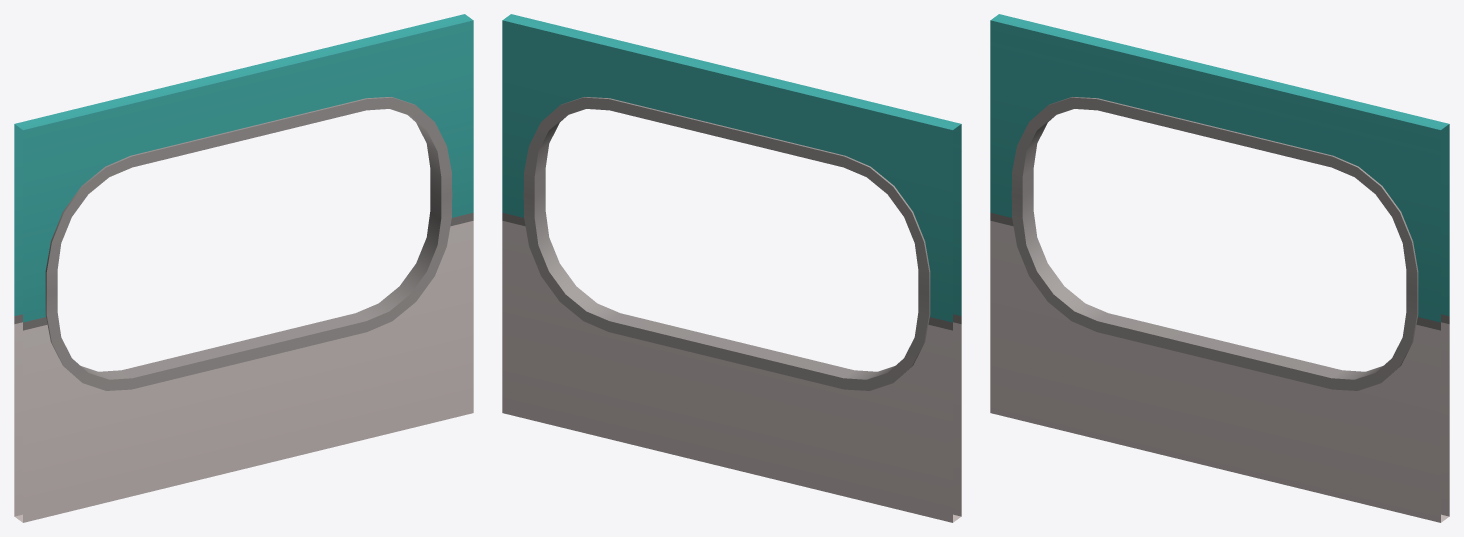
The model's file is Wall_Window_3m.fbx.
3 views of the same model, side by side, from view 1: azimuth 30°, elevation 25°; view 2: azimuth 150°, elevation 25°; view 3: azimuth 330°, elevation 25° (orthographic).
Visible parts, largest first — view 1: Wall3m_window, windowFrame; view 2: Wall3m_window, windowFrame; view 3: Wall3m_window, windowFrame.
Part boxes in pixels (bbox=[...]): Wall3m_window: bbox=[14, 14, 473, 522]; windowFrame: bbox=[45, 97, 452, 390]; Wall3m_window: bbox=[502, 14, 961, 522]; windowFrame: bbox=[523, 97, 930, 390]; Wall3m_window: bbox=[990, 14, 1449, 522]; windowFrame: bbox=[1011, 97, 1418, 390].
Size of the model in its own units: 3 by 2.5 by 0.1259.
